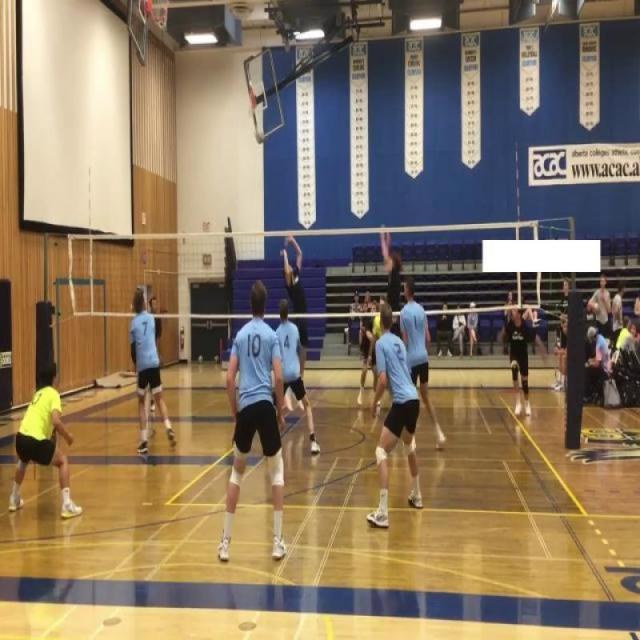volleyball: (254, 127, 265, 146), (198, 356, 204, 364), (214, 355, 219, 364)
